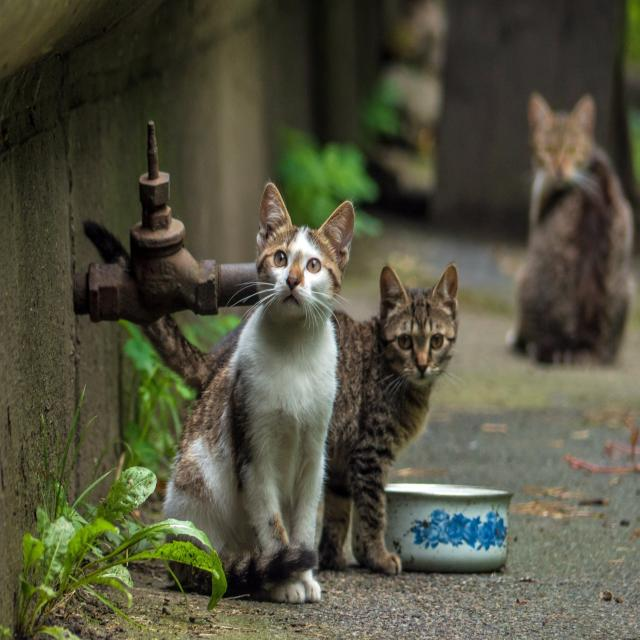cat: (164, 183, 354, 604), (319, 263, 458, 575), (509, 93, 632, 364), (142, 315, 241, 394), (84, 222, 130, 267)
